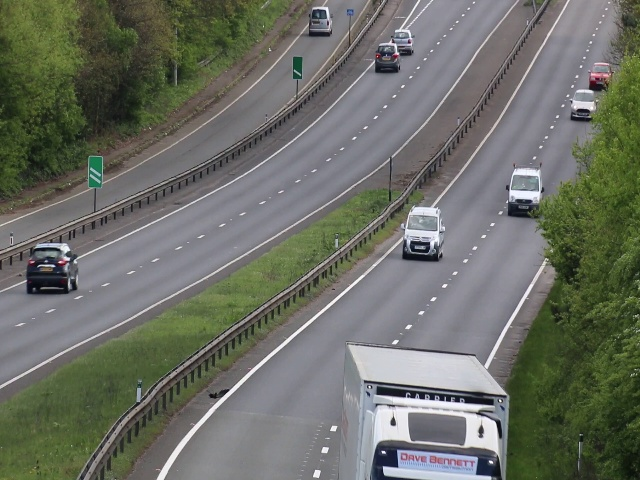car: (375, 437, 498, 480), (23, 240, 81, 297), (403, 205, 445, 261), (506, 158, 543, 218), (373, 40, 401, 75), (570, 87, 594, 125), (308, 3, 333, 37), (588, 59, 609, 91), (393, 27, 412, 52)
